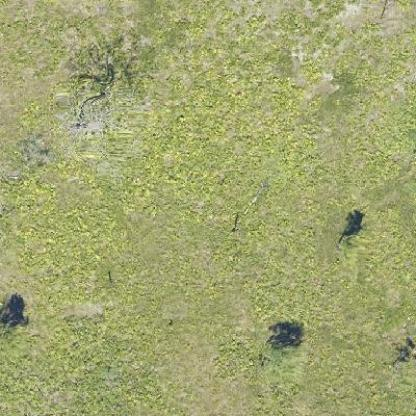tree-top: (266, 321, 305, 359), (0, 312, 35, 347)
